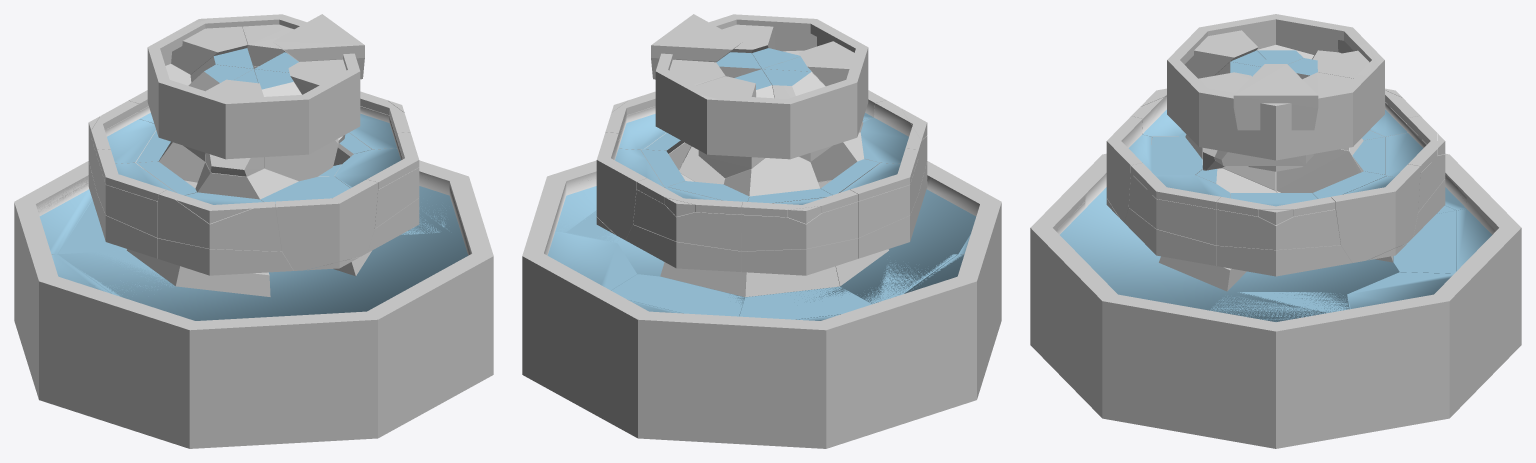
Rendered from krkfiskiye.fbx.
3 renders of one model, left to right at view 1: azimuth 30°, elevation 25°; view 2: azimuth 150°, elevation 25°; view 3: azimuth 270°, elevation 25°, orthographic.
Parts seen in each view (by area): view 1: Cylinder.002_cell.070, Cylinder.002_cell.093, Cylinder.002_cell.009, Cylinder.002_cell.074, Cylinder.002_cell.004, Cylinder.002_cell.026, Cylinder.002_cell.081, Cylinder.002_cell.086, Cylinder.002_cell.014, Cylinder.002_cell.024, Cylinder.002_cell.065, Cylinder.002_cell.031 (+39 smaller); view 2: Cylinder.002_cell.070, Cylinder.002_cell.066, Cylinder.002_cell.093, Cylinder.002_cell.034, Cylinder.002_cell.046, Cylinder.002_cell.030, Cylinder.002_cell.016, Cylinder.002_cell.058, Cylinder.002_cell.027, Cylinder.002_cell.104, Cylinder.002_cell.026, Cylinder.002_cell.107 (+44 smaller); view 3: Cylinder.002_cell.070, Cylinder.002_cell.085, Cylinder.002_cell.030, Cylinder.002_cell.093, Cylinder.002_cell.061, Cylinder.002_cell.020, Cylinder.002_cell.033, Cylinder.002_cell.058, Cylinder.002_cell.008, Cylinder.002_cell.077, Cylinder.002_cell.024, Cylinder.002_cell.065 (+41 smaller).
Part boxes in pixels (left/top/right/bottom): Cylinder.002_cell.070: left=14, top=161, right=493, bottom=448; Cylinder.002_cell.093: left=147, top=14, right=360, bottom=158; Cylinder.002_cell.009: left=251, top=364, right=435, bottom=445; Cylinder.002_cell.074: left=275, top=179, right=377, bottom=270; Cylinder.002_cell.004: left=284, top=295, right=435, bottom=395; Cylinder.002_cell.026: left=158, top=190, right=281, bottom=251; Cylinder.002_cell.081: left=192, top=79, right=266, bottom=159; Cylinder.002_cell.086: left=189, top=325, right=283, bottom=448; Cylinder.002_cell.014: left=158, top=238, right=293, bottom=275; Cylinder.002_cell.024: left=334, top=141, right=419, bottom=228; Cylinder.002_cell.065: left=273, top=14, right=364, bottom=79; Cylinder.002_cell.031: left=97, top=158, right=175, bottom=237; Cylinder.002_cell.070: left=522, top=161, right=1001, bottom=448; Cylinder.002_cell.066: left=732, top=313, right=901, bottom=448; Cylinder.002_cell.093: left=655, top=14, right=868, bottom=158; Cylinder.002_cell.034: left=580, top=295, right=731, bottom=395; Cylinder.002_cell.046: left=580, top=359, right=764, bottom=445; Cylinder.002_cell.030: left=522, top=232, right=636, bottom=357; Cylinder.002_cell.016: left=741, top=197, right=857, bottom=251; Cylinder.002_cell.058: left=596, top=132, right=664, bottom=240; Cylinder.002_cell.027: left=633, top=187, right=741, bottom=251; Cylinder.002_cell.104: left=611, top=274, right=744, bottom=316; Cylinder.002_cell.026: left=860, top=100, right=927, bottom=192; Cylinder.002_cell.107: left=739, top=286, right=871, bottom=319; Cylinder.002_cell.070: left=1030, top=153, right=1521, bottom=442; Cylinder.002_cell.085: left=1189, top=318, right=1362, bottom=395; Cylinder.002_cell.030: left=1347, top=272, right=1485, bottom=386; Cylinder.002_cell.093: left=1167, top=14, right=1384, bottom=160; Cylinder.002_cell.061: left=1189, top=386, right=1362, bottom=448; Cylinder.002_cell.020: left=1066, top=272, right=1188, bottom=386; Cylinder.002_cell.033: left=1363, top=335, right=1485, bottom=433; Cylinder.002_cell.058: left=1331, top=164, right=1420, bottom=262; Cylinder.002_cell.008: left=1216, top=202, right=1340, bottom=249; Cylinder.002_cell.077: left=1102, top=365, right=1188, bottom=433; Cylinder.002_cell.024: left=1128, top=173, right=1230, bottom=245; Cylinder.002_cell.065: left=1233, top=64, right=1318, bottom=130.
Bounding box in the file's own units: 289 × 190 × 289.
